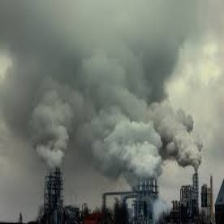smoke: (26, 38, 204, 172)
